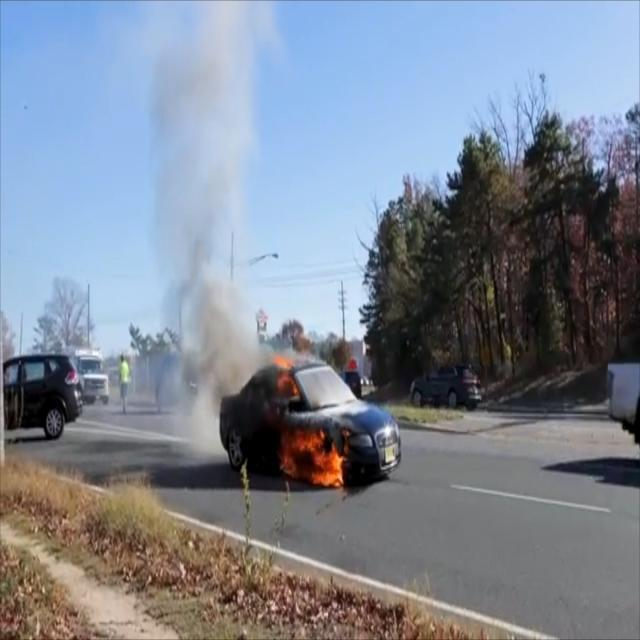fire: (268, 344, 348, 494)
